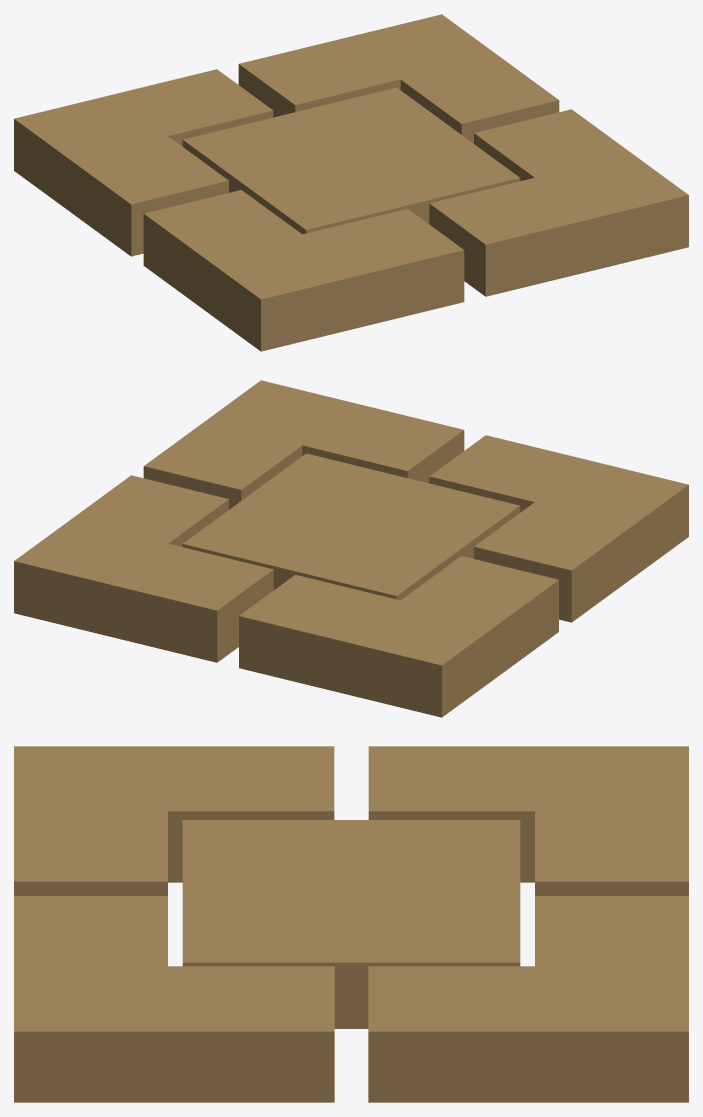
The model's file is platform.fbx.
The picture shows the model from 3 angles, top to bottom: view 1: azimuth 30°, elevation 25°; view 2: azimuth 150°, elevation 25°; view 3: azimuth 270°, elevation 25°; orthographic projection. The views are drawn at different scales.
Visible parts, largest first — view 1: Cube.001; view 2: Cube.001; view 3: Cube.001.
Part boxes in pixels (x1=…): Cube.001: x1=14, y1=14, x2=688, y2=351; Cube.001: x1=14, y1=380, x2=688, y2=717; Cube.001: x1=14, y1=746, x2=688, y2=1102.
Bounding box in the file's own units: 195 × 22.69 × 195.
